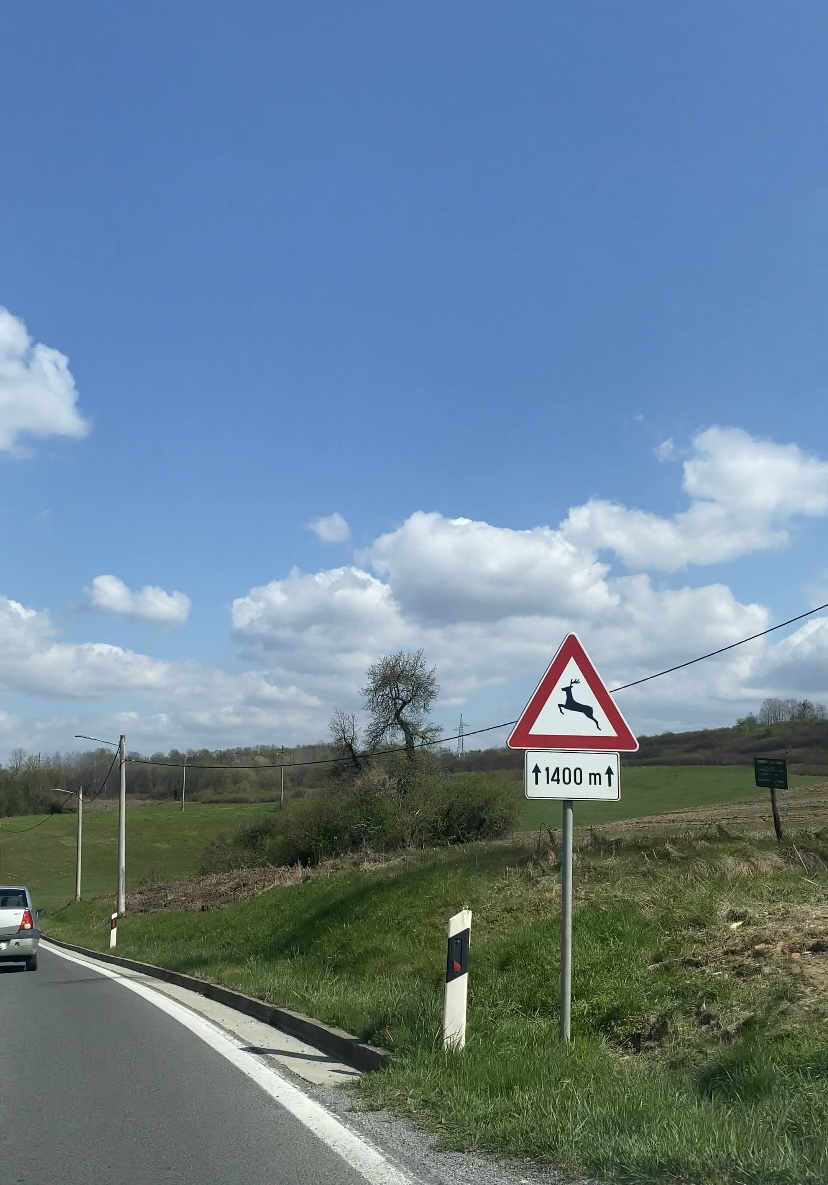Divljač na cesti: (506, 632, 639, 751)
